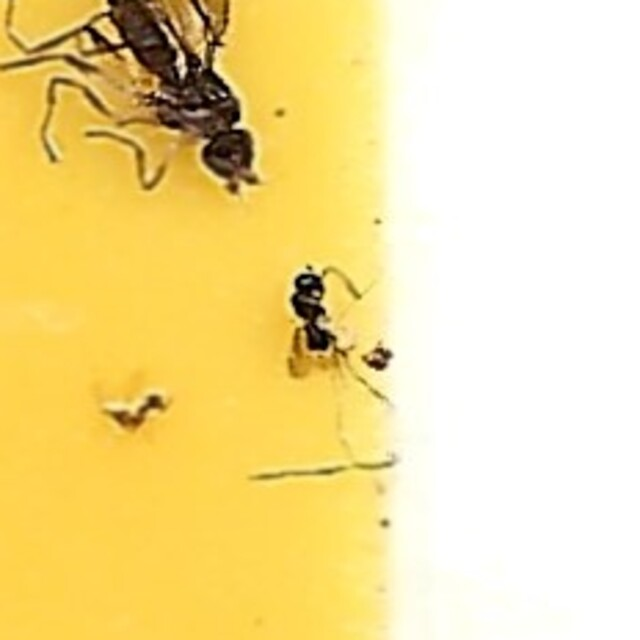Hymenoptera: (276, 254, 364, 386)
